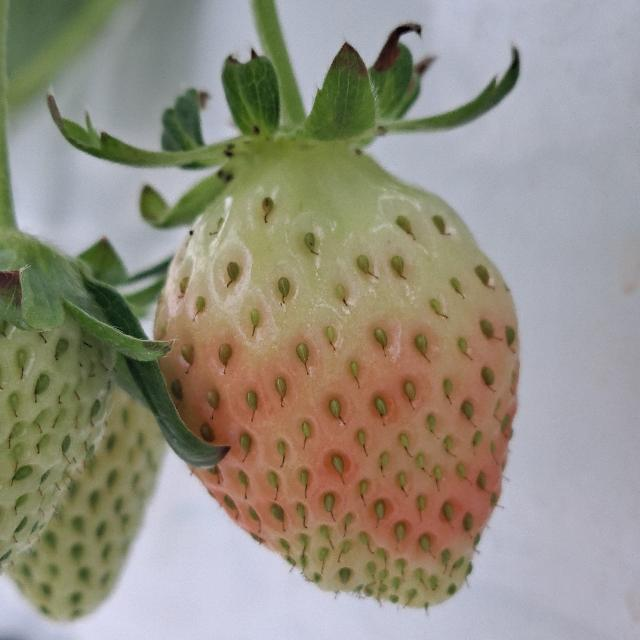Health_50: (152, 142, 520, 608)
